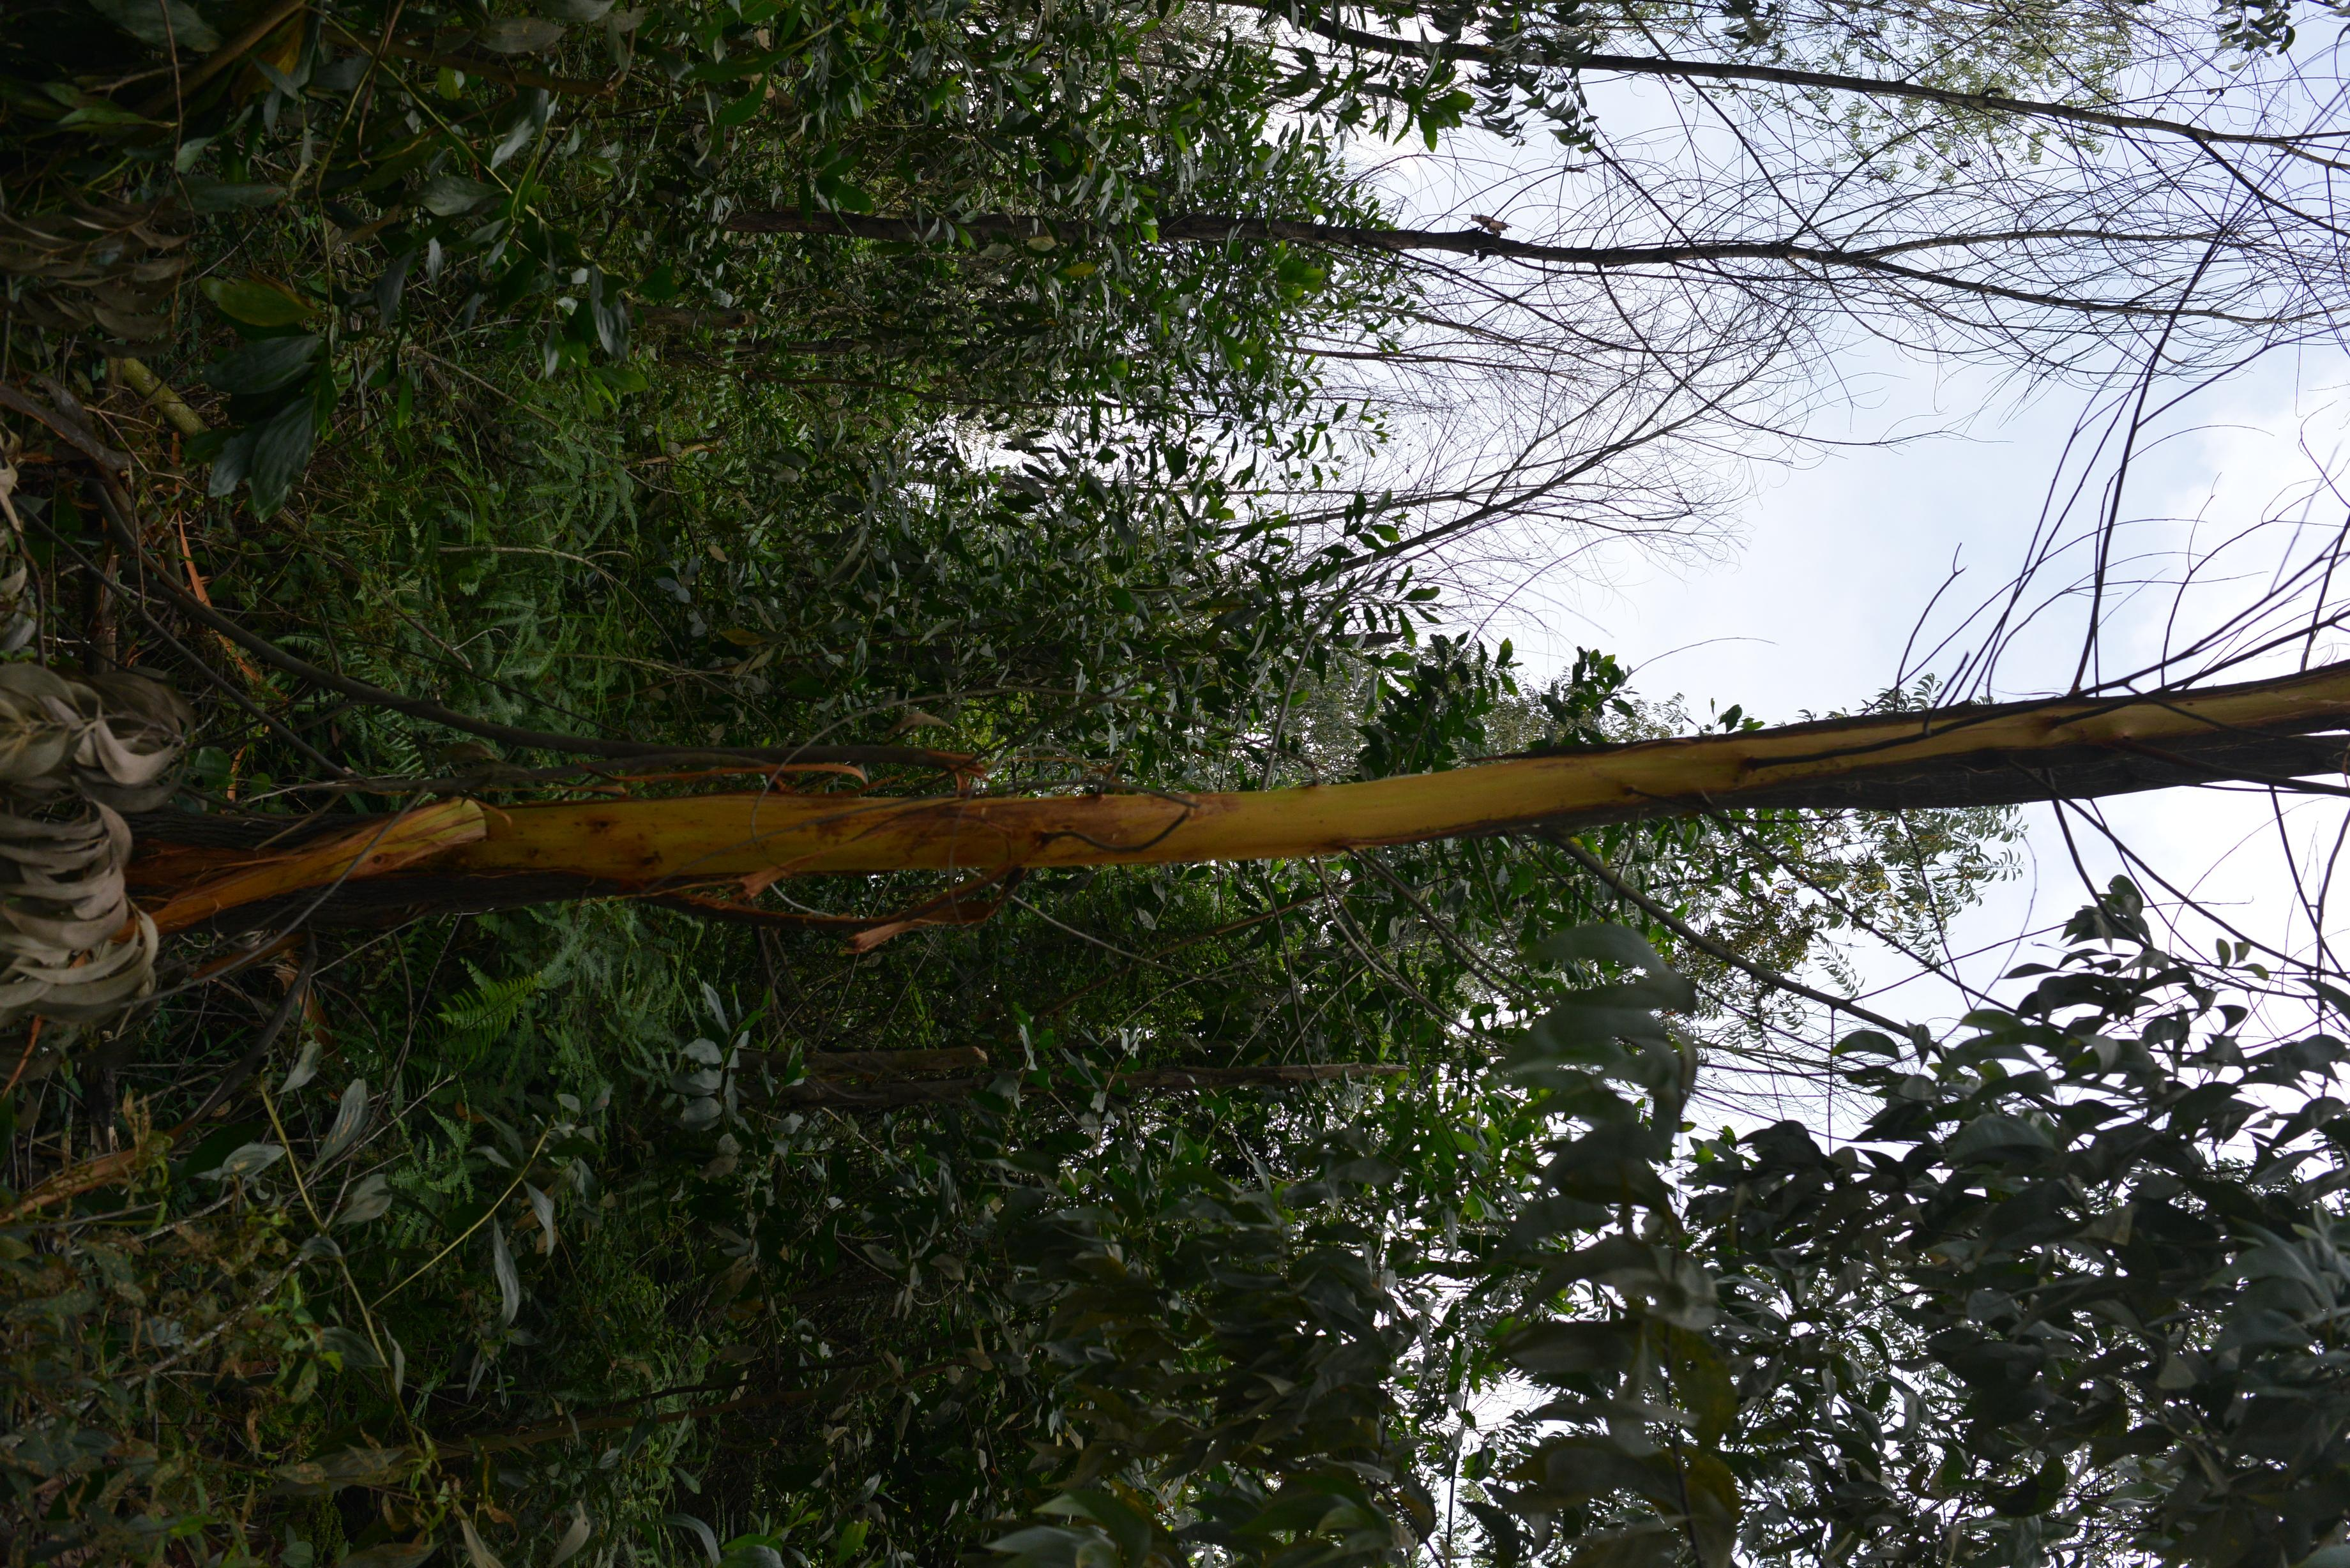Mammals Attack: (387, 674, 2350, 880)
